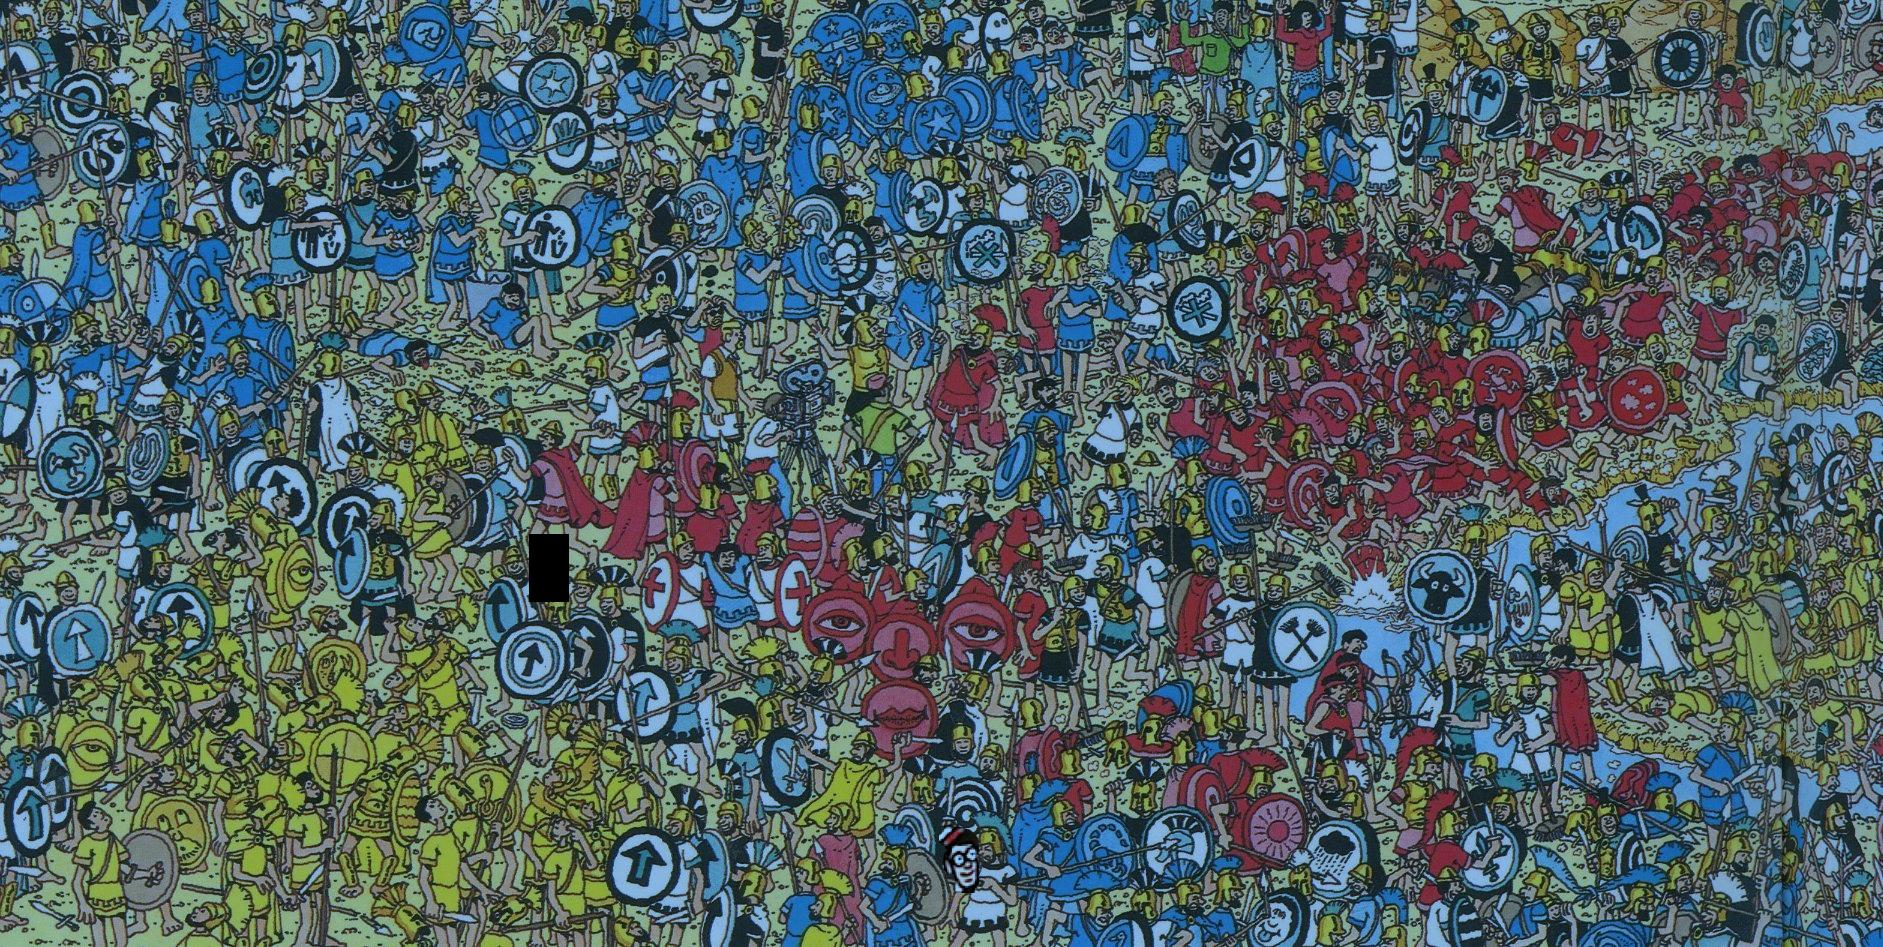waldos: (938, 825, 980, 893)
